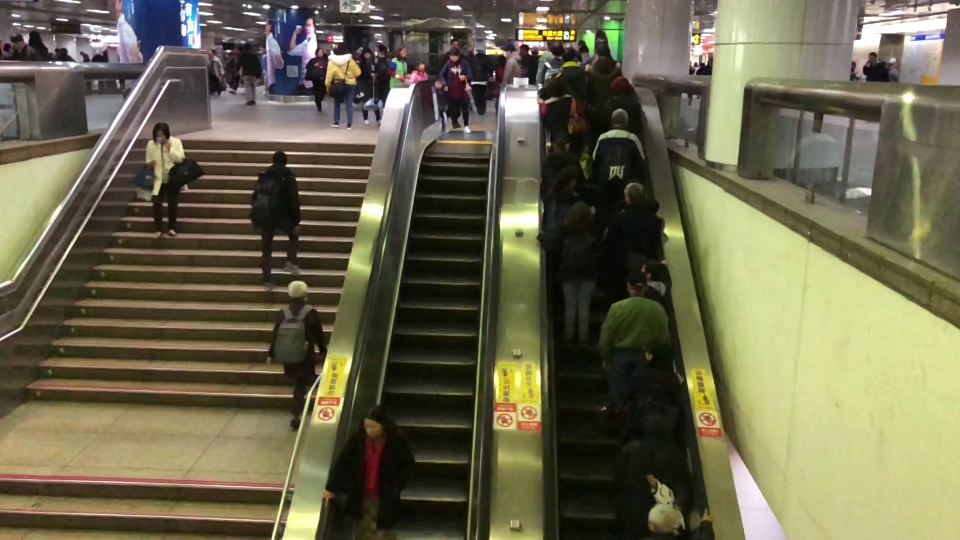person_head: (646, 501, 685, 535), (561, 200, 593, 234), (639, 410, 671, 441), (361, 405, 388, 439), (645, 342, 674, 370), (556, 163, 578, 191), (621, 181, 645, 205), (626, 271, 646, 297), (286, 279, 308, 302), (151, 121, 171, 145), (551, 129, 570, 154), (610, 75, 633, 95), (639, 258, 658, 282), (546, 77, 567, 98), (609, 107, 628, 130), (594, 41, 610, 60), (561, 47, 578, 64), (333, 41, 349, 57), (549, 41, 564, 58), (272, 151, 287, 168), (27, 29, 42, 44), (10, 32, 23, 48), (448, 47, 461, 62), (394, 43, 407, 58), (362, 46, 373, 61), (433, 76, 443, 91), (517, 44, 528, 57), (497, 54, 506, 68), (415, 60, 425, 72), (868, 51, 878, 62), (449, 38, 459, 49), (242, 42, 252, 53), (206, 48, 217, 58), (530, 45, 539, 57), (579, 44, 589, 54), (888, 57, 897, 68), (547, 40, 556, 51), (474, 51, 484, 60), (378, 44, 386, 55), (315, 47, 323, 58), (258, 45, 267, 54), (59, 47, 68, 55), (227, 52, 235, 60), (708, 54, 713, 65), (53, 47, 60, 54), (851, 61, 856, 70), (699, 62, 705, 69), (79, 51, 84, 57), (688, 62, 692, 68), (693, 62, 697, 67)
person_vbox: (319, 405, 417, 540), (596, 271, 672, 415), (612, 410, 694, 540), (537, 200, 602, 347), (265, 279, 327, 432), (596, 181, 663, 316), (249, 151, 302, 290), (591, 107, 645, 242), (614, 342, 683, 445), (540, 163, 596, 288), (143, 121, 188, 240), (539, 128, 587, 211), (323, 42, 362, 130), (633, 500, 715, 540), (536, 77, 586, 142), (594, 75, 643, 141), (545, 47, 594, 108), (438, 47, 471, 134), (584, 42, 623, 107), (357, 45, 382, 125), (235, 42, 261, 106), (305, 47, 328, 113), (537, 41, 563, 91), (639, 258, 666, 306), (502, 43, 529, 85), (471, 51, 488, 116), (535, 39, 556, 88), (438, 38, 470, 70), (387, 43, 408, 90), (433, 75, 449, 133), (206, 48, 225, 96), (374, 44, 388, 107), (24, 29, 49, 62), (862, 51, 888, 82), (494, 54, 507, 116), (223, 52, 240, 94), (525, 45, 539, 85), (9, 32, 27, 61), (408, 60, 428, 86), (257, 45, 267, 97), (80, 51, 91, 88), (695, 62, 705, 99), (687, 62, 694, 106), (55, 47, 76, 61), (888, 57, 899, 82), (579, 44, 591, 64), (850, 61, 861, 82), (703, 54, 713, 75), (52, 47, 59, 60), (693, 63, 698, 74)
